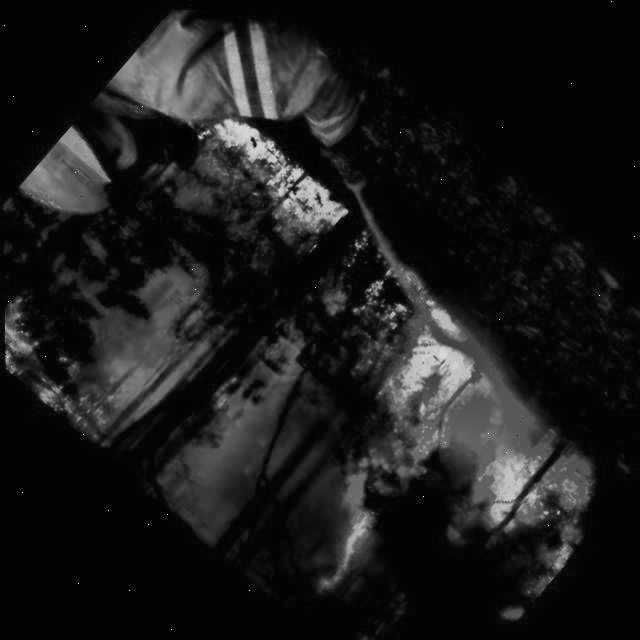Smoke: (230, 281, 529, 611), (407, 394, 628, 628), (181, 96, 348, 257)
